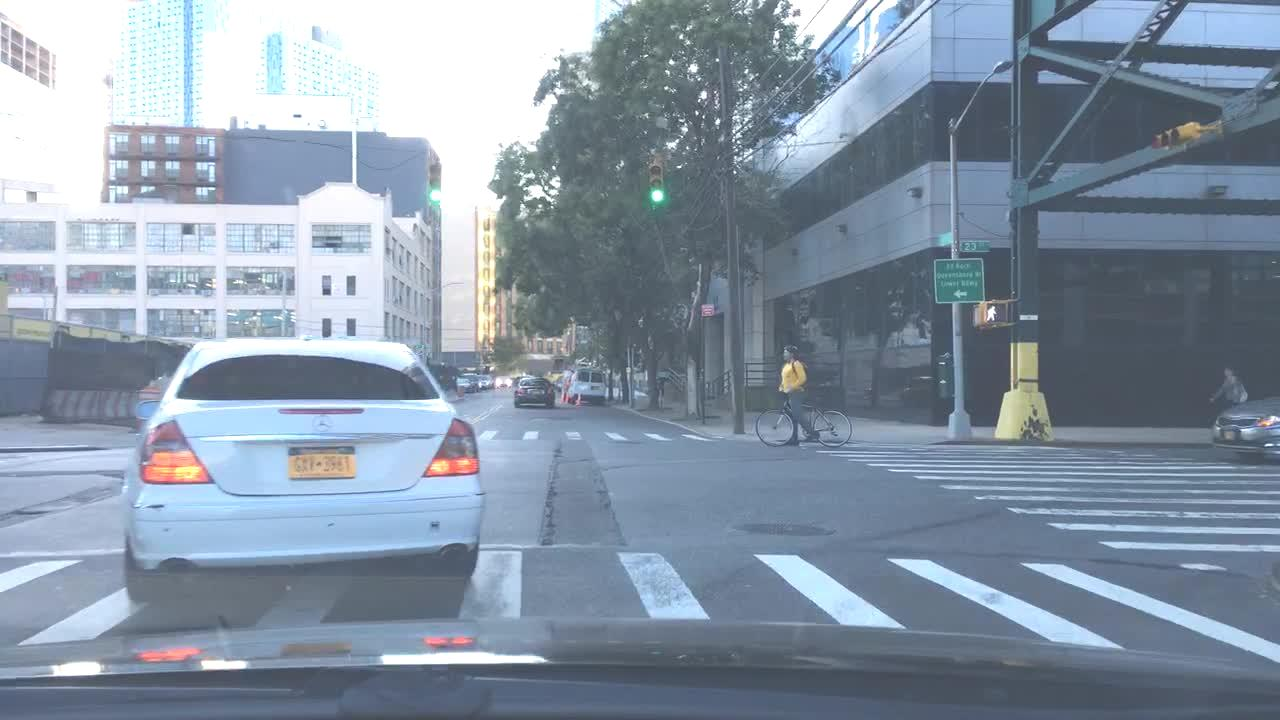Mercedes: (306, 411, 338, 436)
